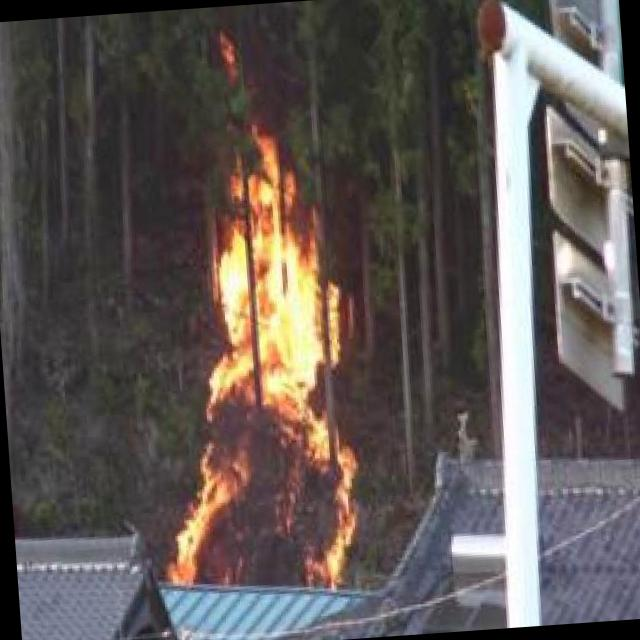Fire: (138, 135, 368, 592)
